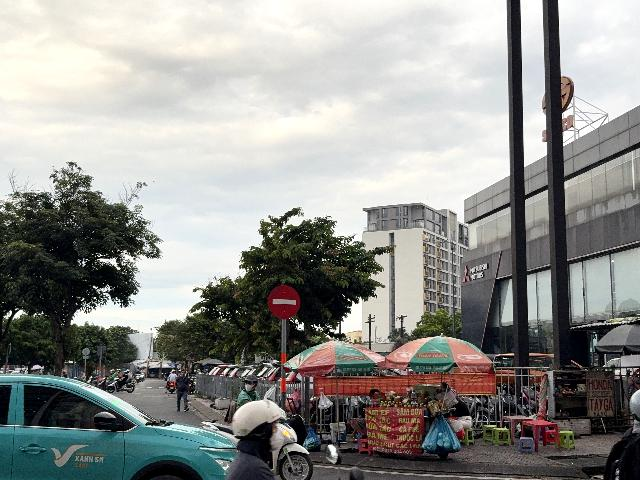cam-di-nguoc-chieu: (268, 285, 300, 320)
